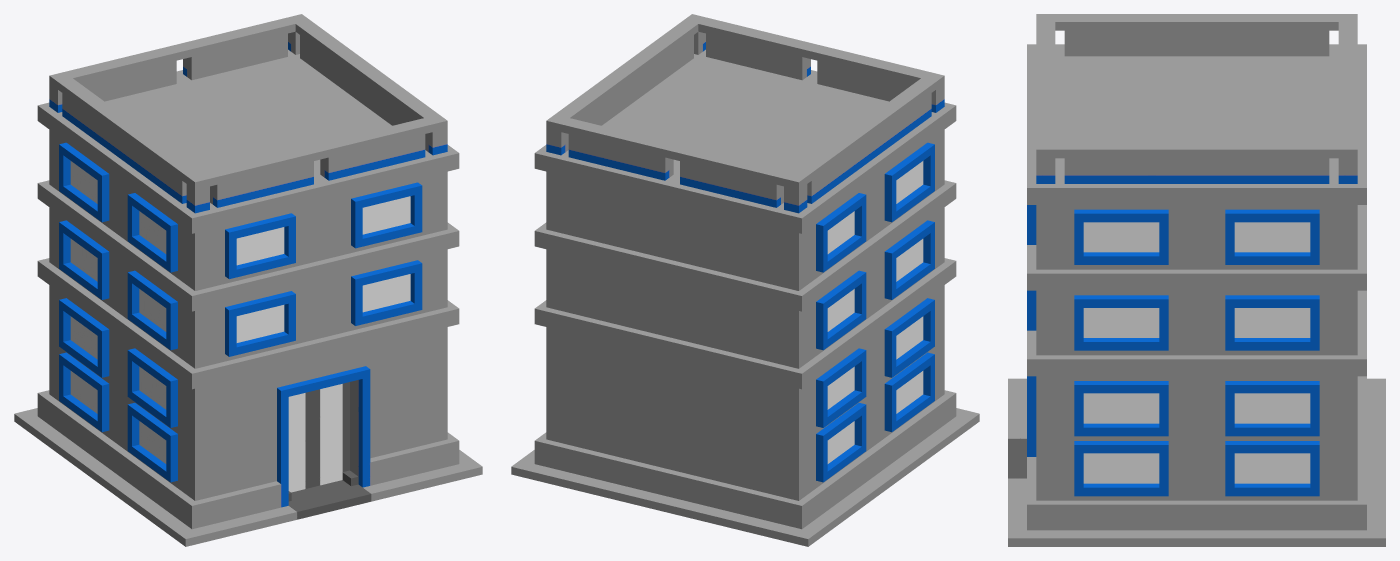
Rendered from Building_3.fbx.
3 views of the same model, side by side, from view 1: azimuth 30°, elevation 25°; view 2: azimuth 150°, elevation 25°; view 3: azimuth 270°, elevation 25° (orthographic). The views are drawn at different scales.
Parts seen in each view (by area): view 1: Building_3; view 2: Building_3; view 3: Building_3.
Part boxes in pixels (x1,y1,x2,y2): Building_3: (14,14,482,546); Building_3: (511,14,979,546); Building_3: (1008,14,1385,546).
Bounding box in the file's own units: 40 × 45 × 40.
1 material, 1 textured.
